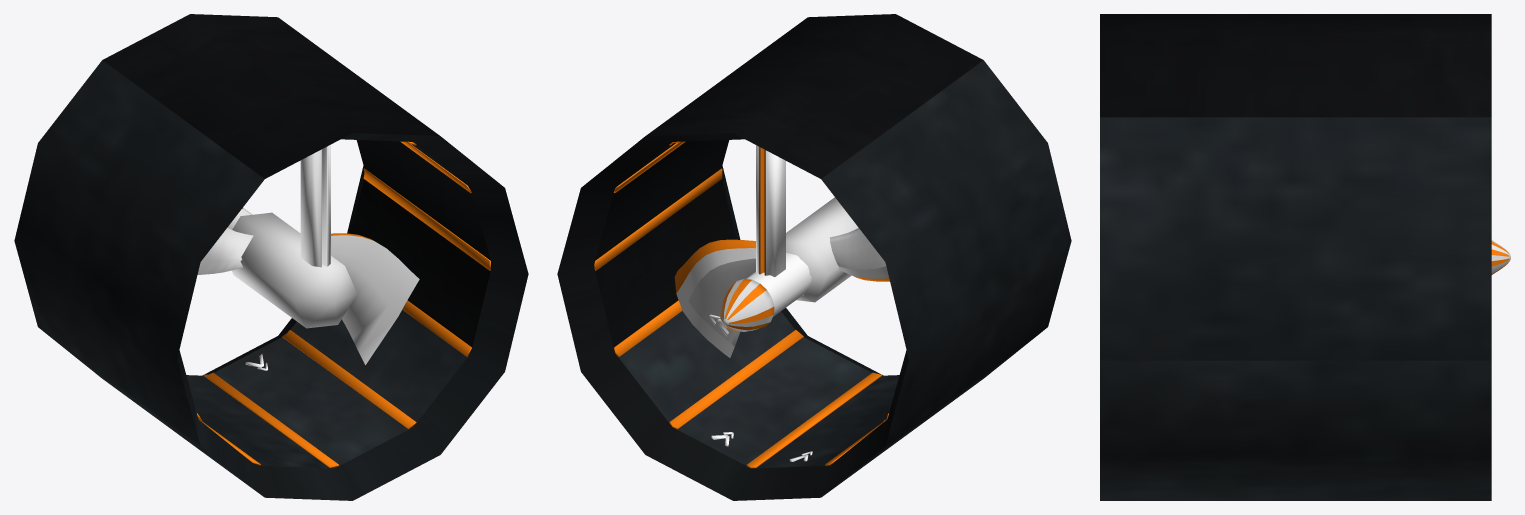
The model's file is Obs_C_Fan.fbx.
The picture shows the model from 3 angles, left to right: view 1: azimuth 30°, elevation 25°; view 2: azimuth 150°, elevation 25°; view 3: azimuth 270°, elevation 25°; orthographic projection. The views are drawn at different scales.
Parts seen in each view (by area): view 1: Obstacle_c_fan, Propeller, Decals Frame, Propeller 2, Holders, Propeller 1; view 2: Obstacle_c_fan, Decals Frame, Propeller, Holders, Propeller 2, Decal White.3, Axis, Propeller 1, Decal Variable.2, Decal Variable.4, Decal Variable; view 3: Obstacle_c_fan.
Part boxes in pixels (x1=…): Obstacle_c_fan: x1=14, y1=14, x2=528, y2=500; Propeller: x1=231, y1=212, x2=357, y2=328; Decals Frame: x1=197, y1=141, x2=490, y2=468; Propeller 2: x1=331, y1=235, x2=419, y2=364; Holders: x1=242, y1=144, x2=330, y2=267; Propeller 1: x1=197, y1=228, x2=253, y2=274; Obstacle_c_fan: x1=557, y1=14, x2=1071, y2=500; Decals Frame: x1=594, y1=141, x2=888, y2=468; Propeller: x1=720, y1=197, x2=858, y2=331; Holders: x1=756, y1=145, x2=785, y2=276; Propeller 2: x1=688, y1=258, x2=755, y2=346; Decal White.3: x1=676, y1=248, x2=755, y2=357; Axis: x1=745, y1=252, x2=811, y2=316; Propeller 1: x1=829, y1=228, x2=886, y2=269; Decal Variable.2: x1=720, y1=279, x2=774, y2=331; Decal Variable.4: x1=674, y1=239, x2=755, y2=293; Decal Variable: x1=760, y1=147, x2=764, y2=273; Obstacle_c_fan: x1=1100, y1=14, x2=1491, y2=500.
Bounding box in the file's own units: 109 × 109 × 92.02.
